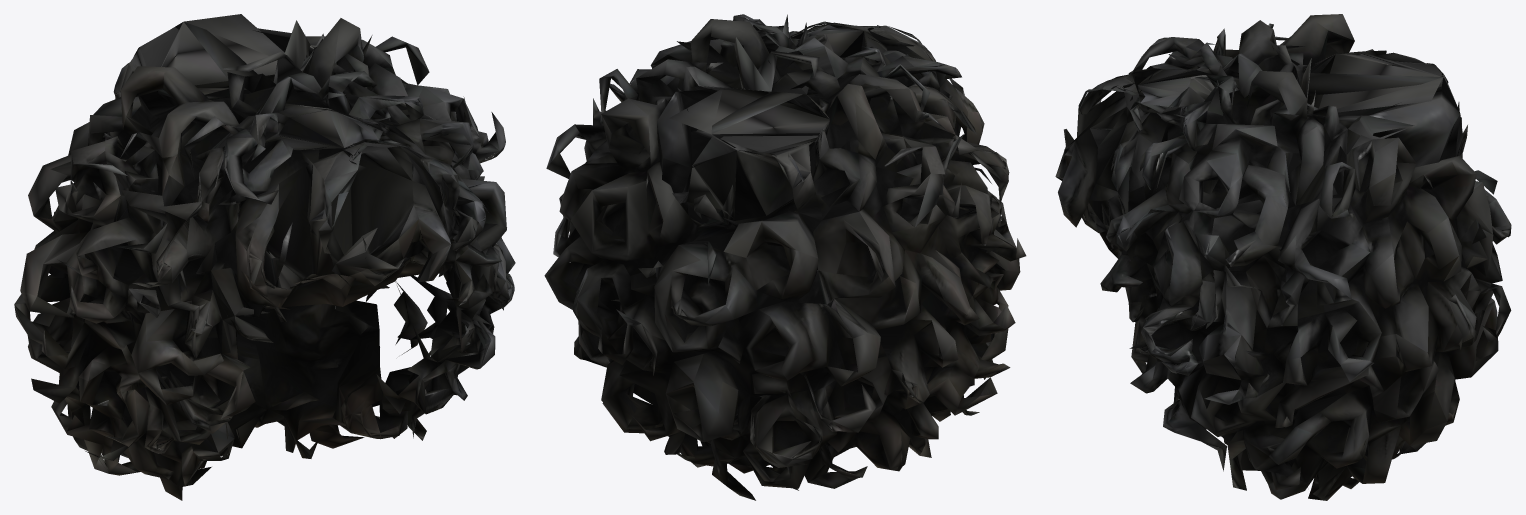
Rendered from pelo_afro.glb.
3 views of the same model, side by side, from view 1: azimuth 30°, elevation 25°; view 2: azimuth 150°, elevation 25°; view 3: azimuth 270°, elevation 25° (orthographic). The views are drawn at different scales.
Visible parts, largest first — view 1: pelo_afro; view 2: pelo_afro; view 3: pelo_afro.
Part boxes in pixels (x1,y1,x2,y2): pelo_afro: (14,14,515,500); pelo_afro: (544,14,1026,500); pelo_afro: (1055,14,1511,500).
Size of the model in its own units: 0.324 by 0.2981 by 0.2873.
1 material, 1 textured.
